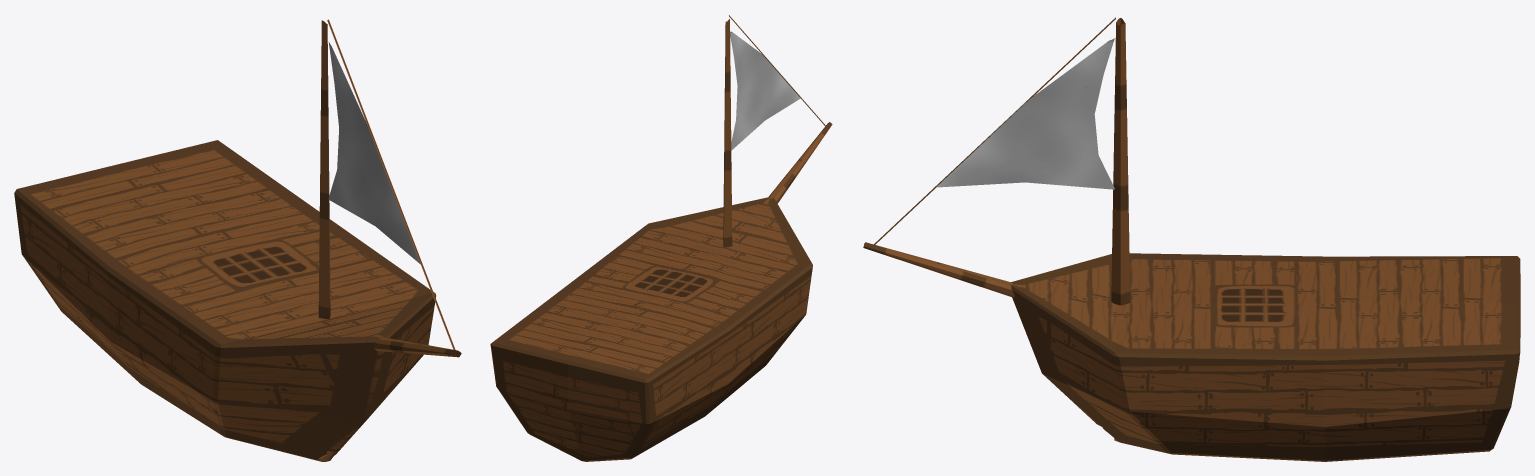
File: ship.fbx
3 views of the same model, side by side, from view 1: azimuth 30°, elevation 25°; view 2: azimuth 150°, elevation 25°; view 3: azimuth 270°, elevation 25° (orthographic). The views are drawn at different scales.
Parts seen in each view (by area): view 1: hull, ropes, sail.002; view 2: hull, ropes, sail.002; view 3: hull, ropes, sail.002.
Part boxes in pixels (x1,y1,x2,y2): hull: (14, 140, 461, 461); ropes: (327, 19, 455, 349); sail.002: (318, 20, 330, 319); hull: (490, 122, 832, 461); ropes: (729, 15, 825, 150); sail.002: (723, 19, 732, 247); hull: (863, 242, 1520, 461); ropes: (873, 17, 1115, 245); sail.002: (1111, 18, 1130, 305).
Bounding box in the file's own units: 143 × 282 × 388.
Materials: 1 (1 with a texture image).
